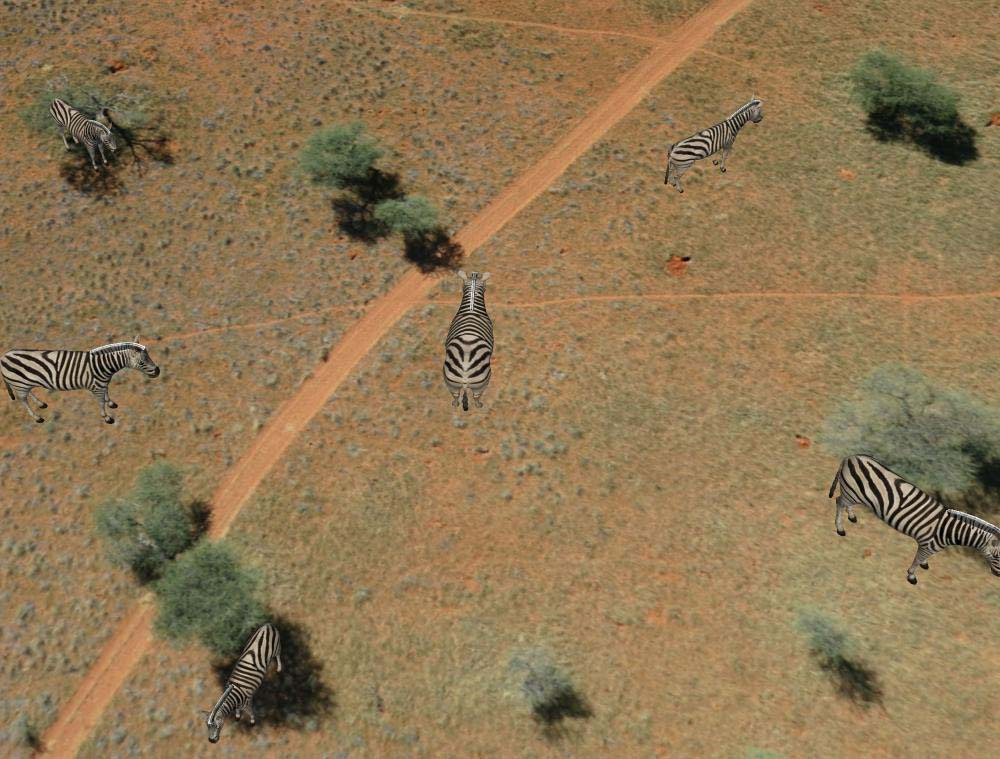zebra: (829, 442, 1000, 592), (1, 342, 166, 434), (204, 621, 285, 746), (442, 262, 506, 413), (669, 96, 766, 186), (45, 92, 118, 172)
